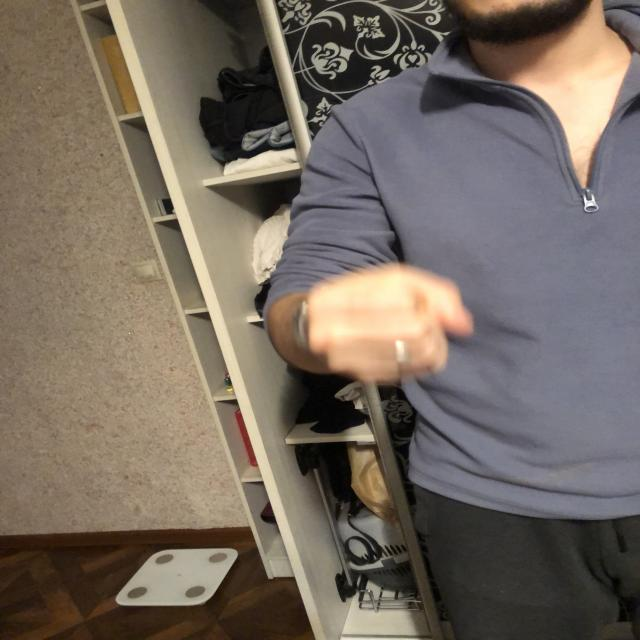rock: (305, 266, 475, 382)
